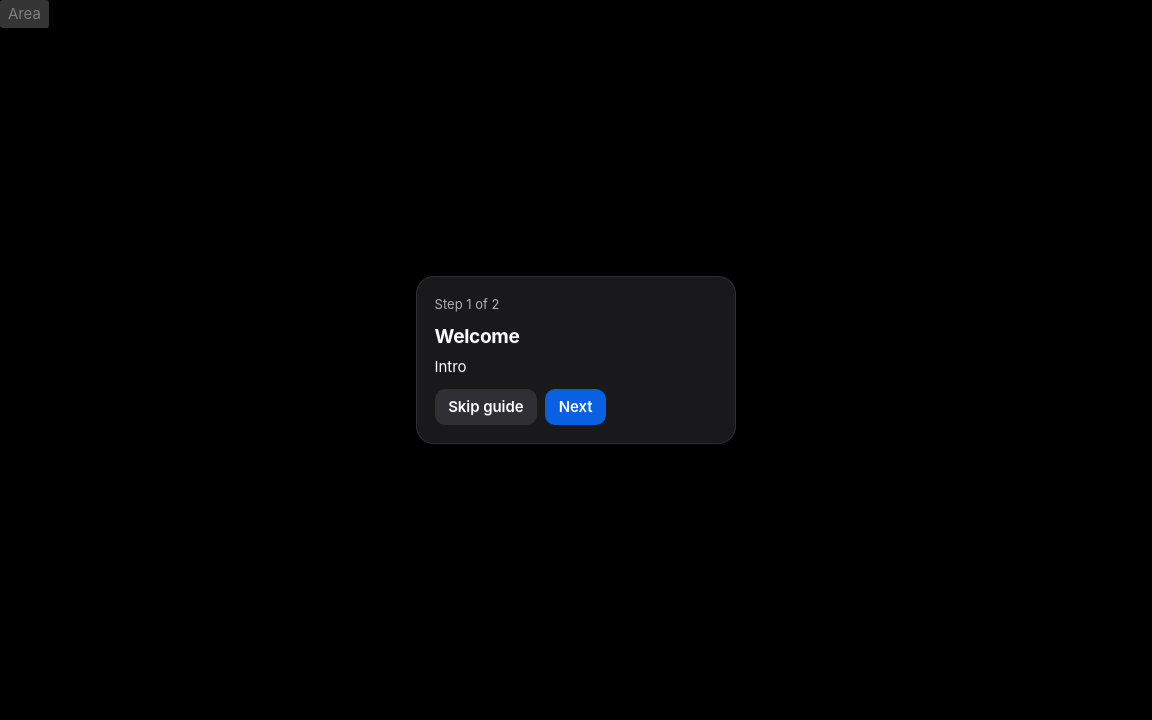
Test: GuideTour › walks forward and back, then finishes
Later steps or results of the test are not shown.
Expected: the text "Step 1 of 2" is shown, [435,296,499,312]
Click the button "Next".
click(576, 407)  # box [545,389,606,425]
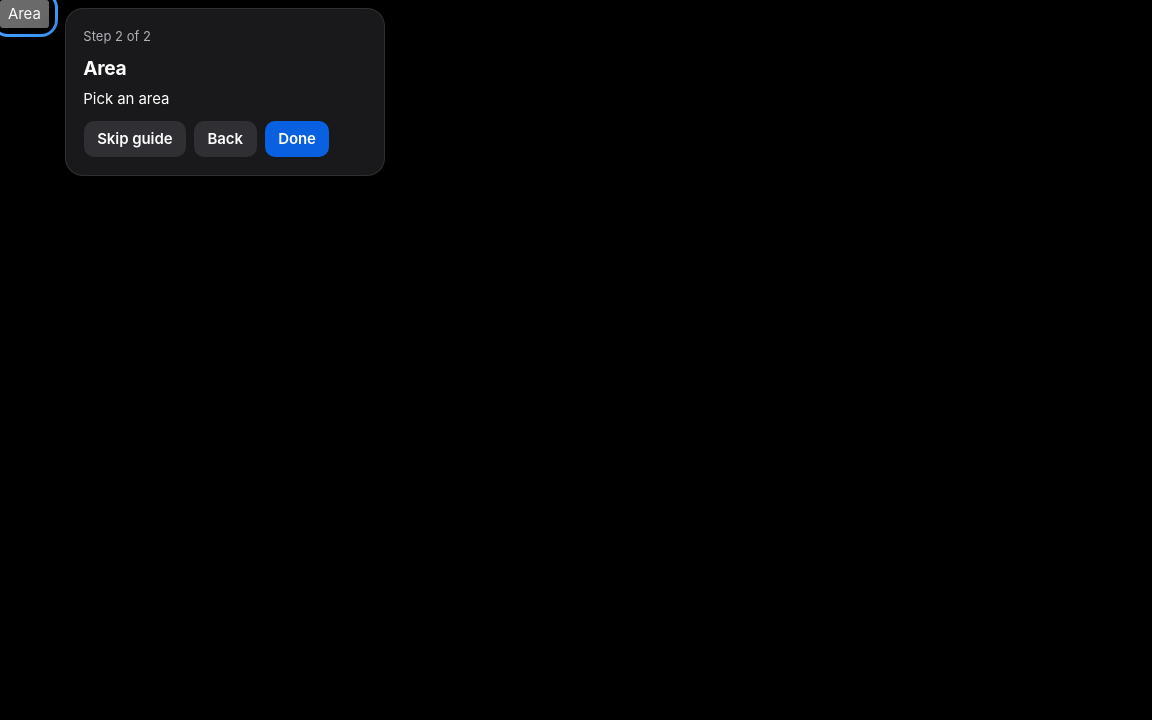
Expected: the heading "Area" is shown, [83,56,126,80]
Click the button "Back".
click(225, 139)  # box [194,121,257,157]
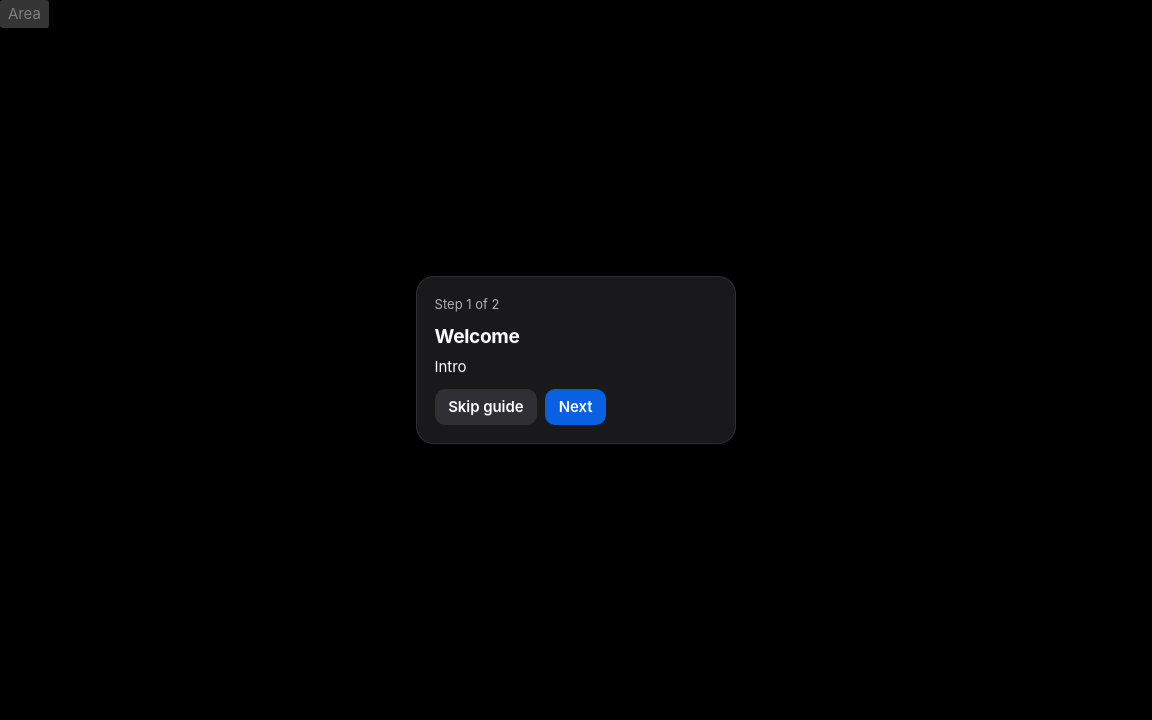
Expected: the heading "Welcome" is shown, [435,324,520,348]
